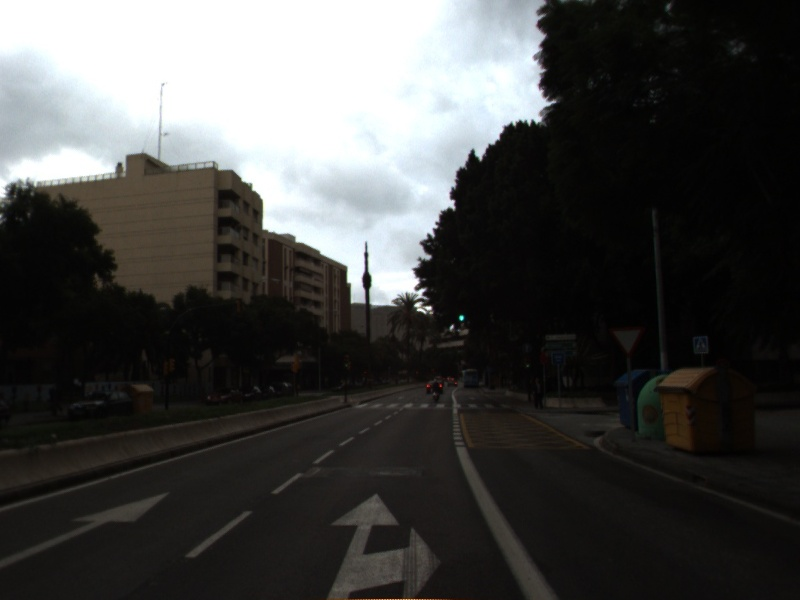STRAIGHT: (1, 487, 174, 571)
STRAIGHT_RIGHT: (323, 490, 447, 600)
